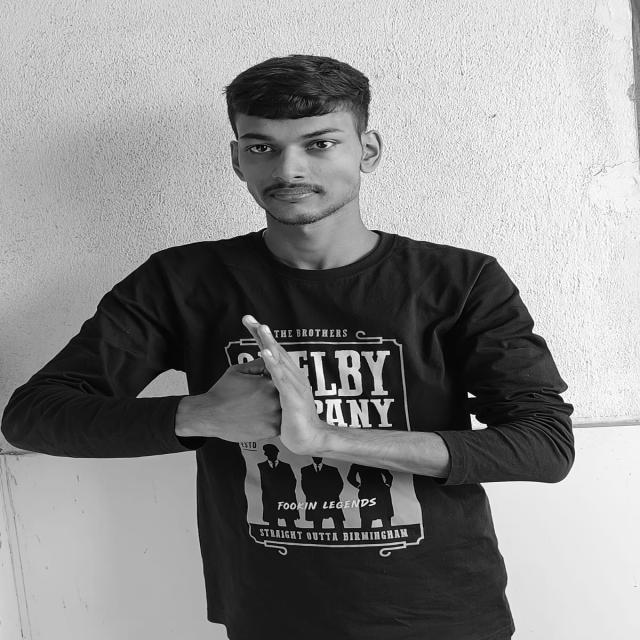Well Done: (210, 312, 327, 455)
